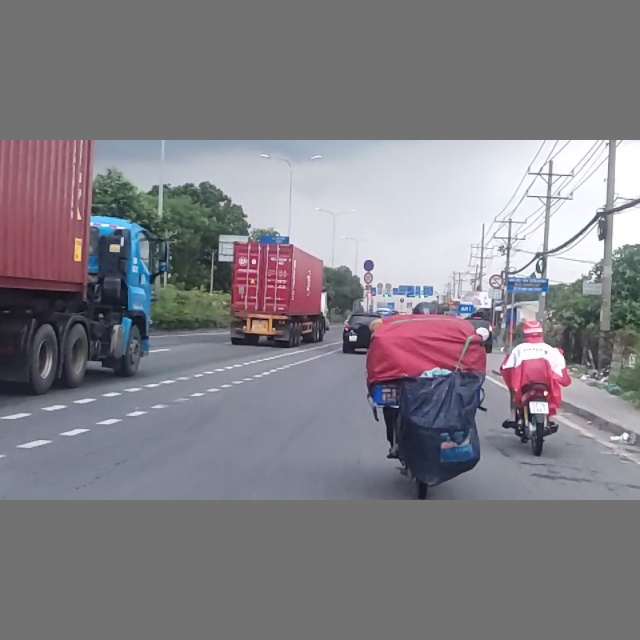P.107: (489, 275, 504, 289)
P.130: (363, 259, 375, 271)
